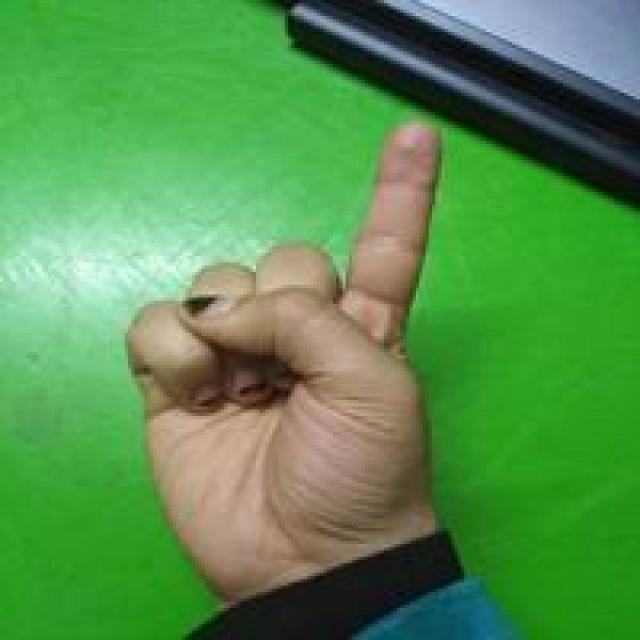Z: (120, 118, 446, 557)
